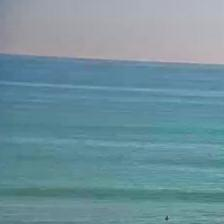surfer: (164, 216, 170, 222)
